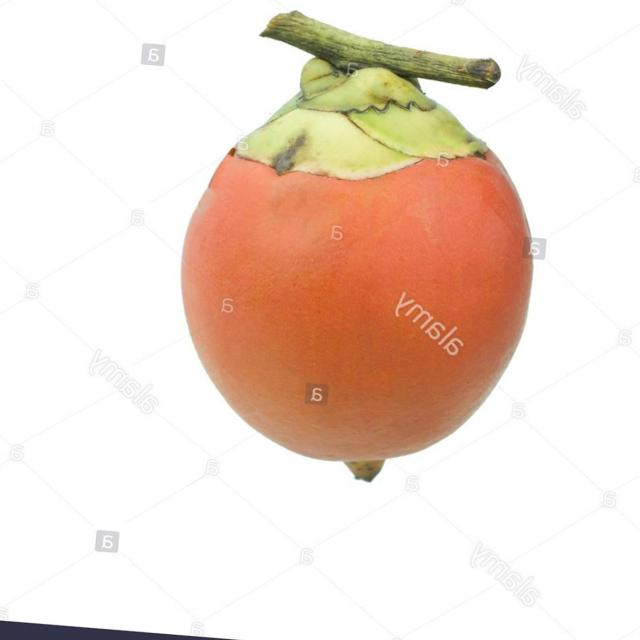good: (180, 12, 534, 480)
